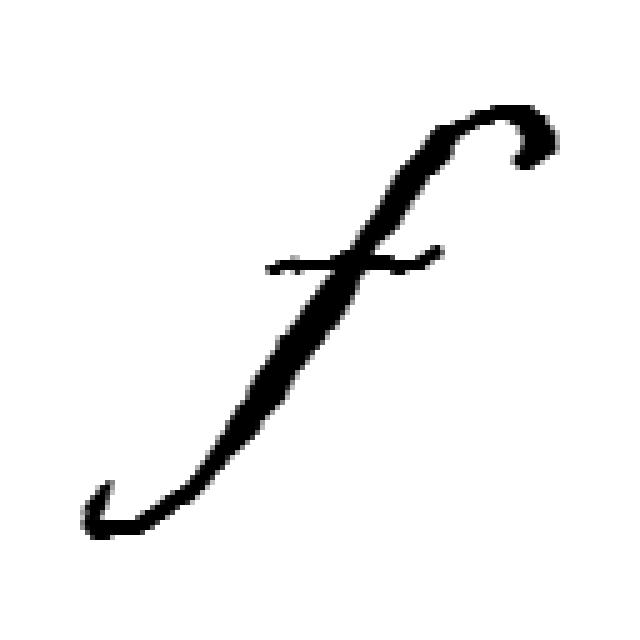F: (75, 105, 560, 540)
